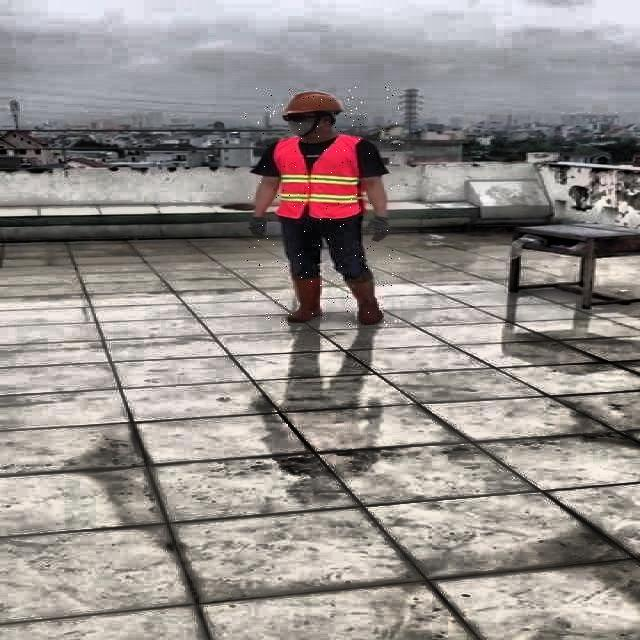safety_helmet: (282, 90, 347, 116)
safety_jacket: (272, 137, 363, 218)
